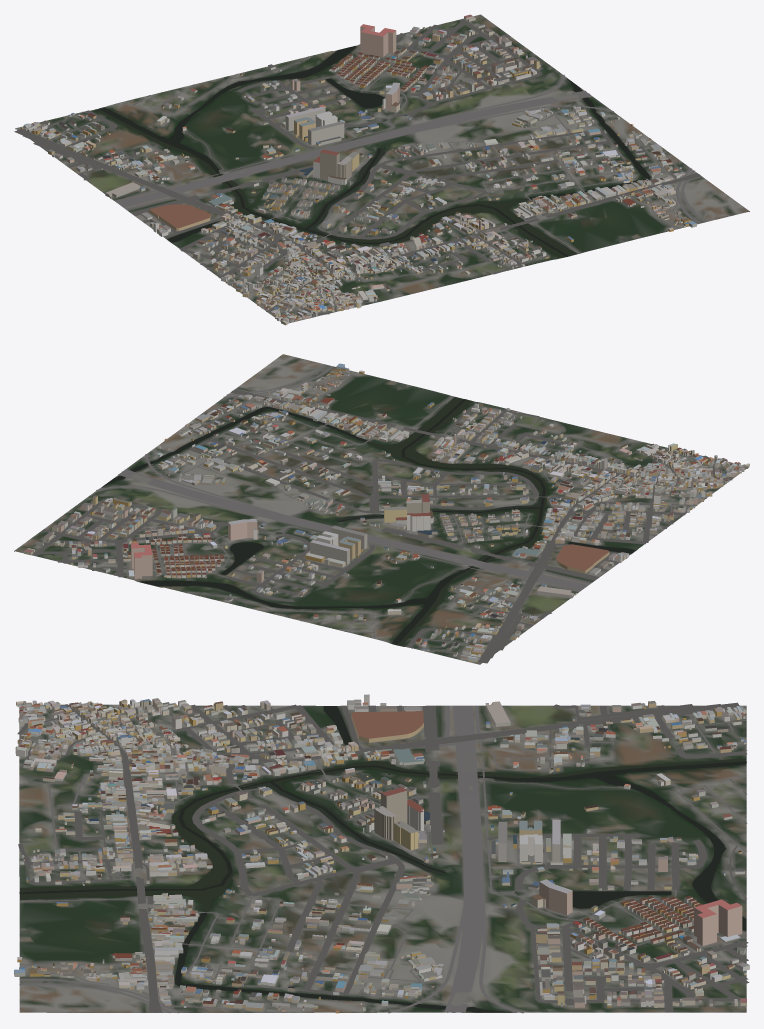
3 views of the same model, one above another, from view 1: azimuth 30°, elevation 25°; view 2: azimuth 150°, elevation 25°; view 3: azimuth 270°, elevation 25° (orthographic). The views are drawn at different scales.
Parts seen in each view (by area): view 1: ground, buildings, roads, water; view 2: ground, buildings, roads, water; view 3: ground, buildings, roads, water.
Part boxes in pixels (x1,y1,x2,y2): ground: [15, 14, 749, 322]; buildings: [20, 14, 696, 325]; roads: [14, 18, 708, 322]; water: [94, 45, 650, 258]; ground: [14, 354, 746, 664]; buildings: [24, 363, 749, 662]; roads: [32, 364, 732, 663]; water: [101, 397, 635, 645]; ground: [19, 704, 746, 1012]; buildings: [14, 694, 749, 1013]; roads: [17, 702, 749, 1013]; water: [19, 706, 746, 1012].
Size of the model in its own units: 1416 by 80.95 by 1417.
